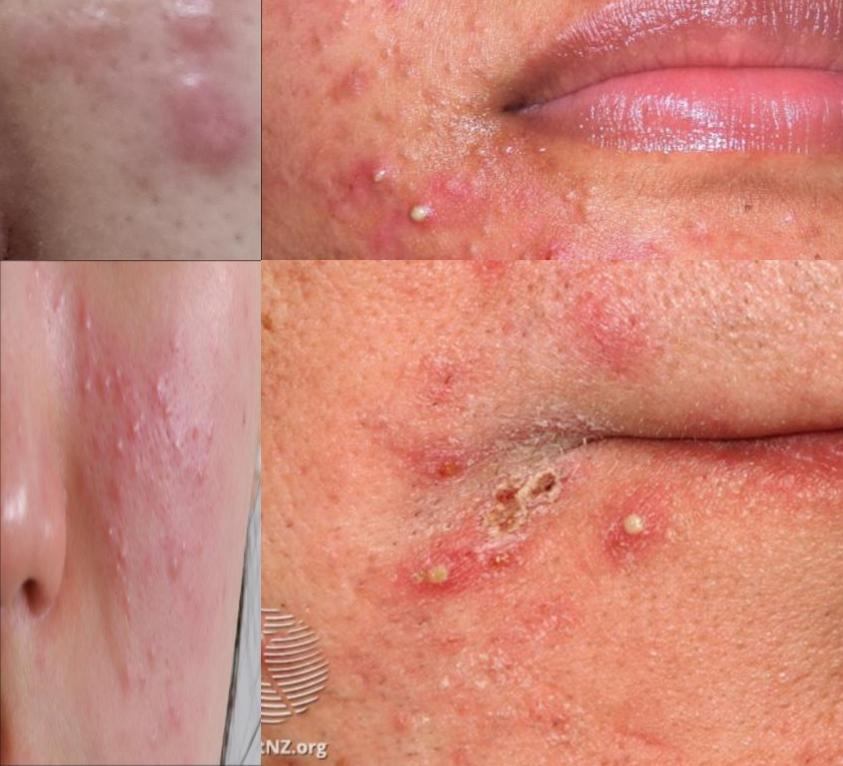papular: (530, 272, 705, 402), (22, 16, 102, 99), (163, 73, 219, 174), (164, 1, 251, 54), (334, 65, 367, 105), (158, 392, 178, 437), (169, 319, 186, 366), (128, 450, 145, 494), (169, 546, 183, 589), (381, 1, 412, 20), (80, 460, 94, 500), (109, 471, 123, 510), (123, 658, 135, 700), (543, 253, 570, 261)
purulent: (585, 487, 695, 595), (399, 195, 440, 239), (363, 159, 402, 194), (114, 536, 129, 587), (100, 367, 115, 411), (129, 405, 144, 448), (83, 306, 97, 350), (82, 368, 95, 410), (113, 432, 128, 466), (151, 372, 166, 406), (107, 515, 119, 551), (113, 357, 127, 387)
sebo-crystan-conglo: (384, 543, 496, 615), (395, 452, 494, 492)
whitehead: (427, 672, 472, 719), (337, 1, 365, 39), (14, 412, 34, 453), (106, 1, 149, 19), (557, 182, 582, 210), (52, 283, 67, 327), (461, 237, 488, 261), (470, 140, 491, 170), (500, 138, 520, 168), (183, 570, 197, 611), (531, 139, 553, 165), (166, 685, 181, 723), (94, 429, 109, 467), (177, 529, 193, 564), (172, 423, 185, 466), (146, 628, 158, 673), (195, 464, 208, 496), (148, 727, 161, 756), (208, 420, 218, 452), (34, 266, 44, 287)
